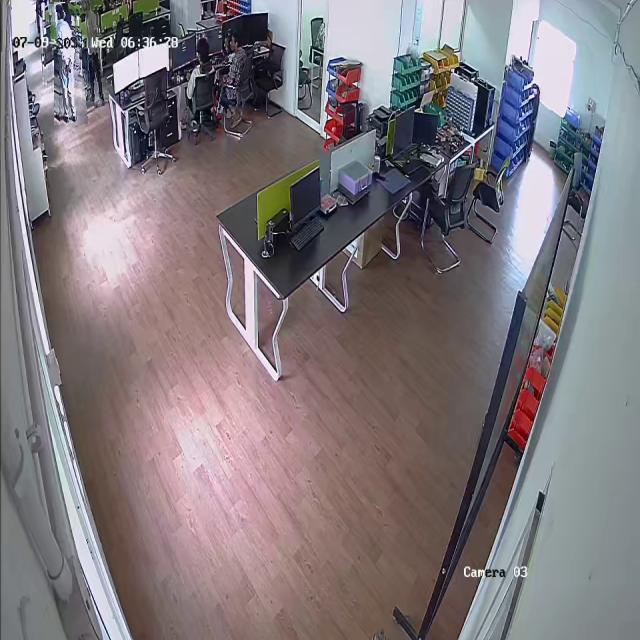person: (51, 1, 85, 126), (216, 30, 252, 120), (81, 0, 103, 106)
